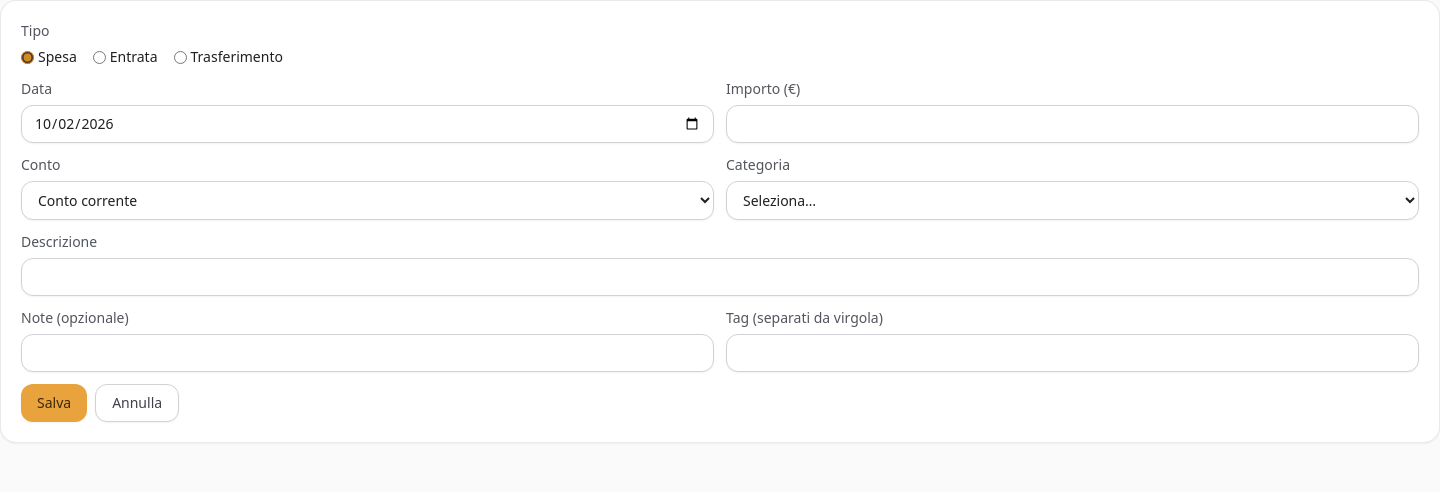
TransactionForm › rejects a transfer to the same account
The image size is (1440, 492).
Click the radio button labelled "Trasferimento" at (180, 57), box [174,50,186,64]
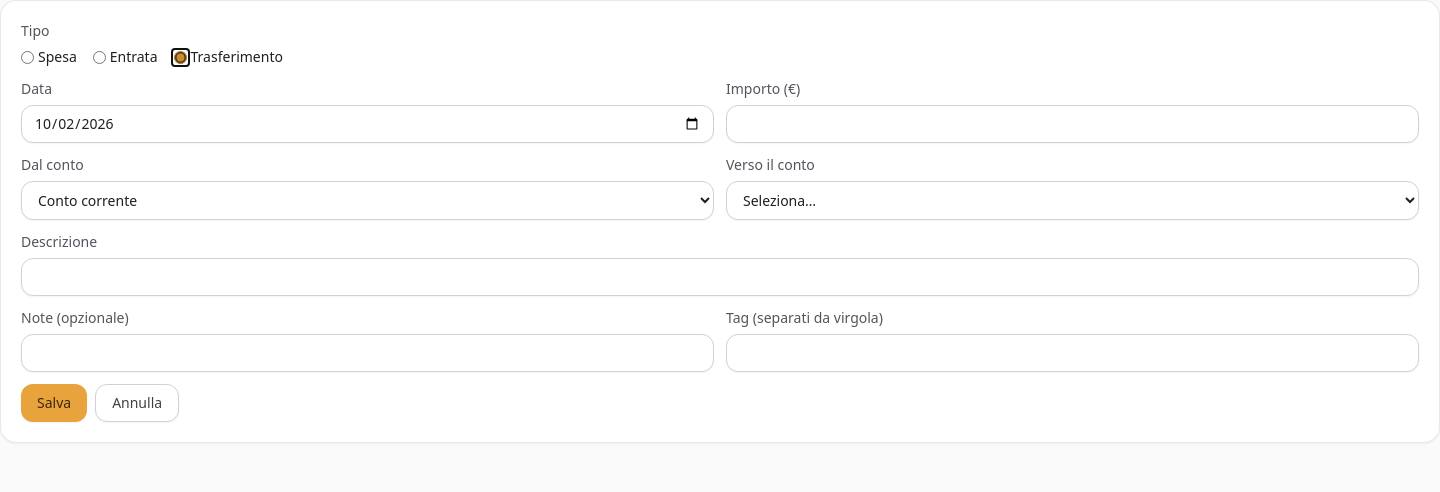
Type "100" into the number field labelled "Importo (€)" at (1072, 124), box [726,105,1419,143]
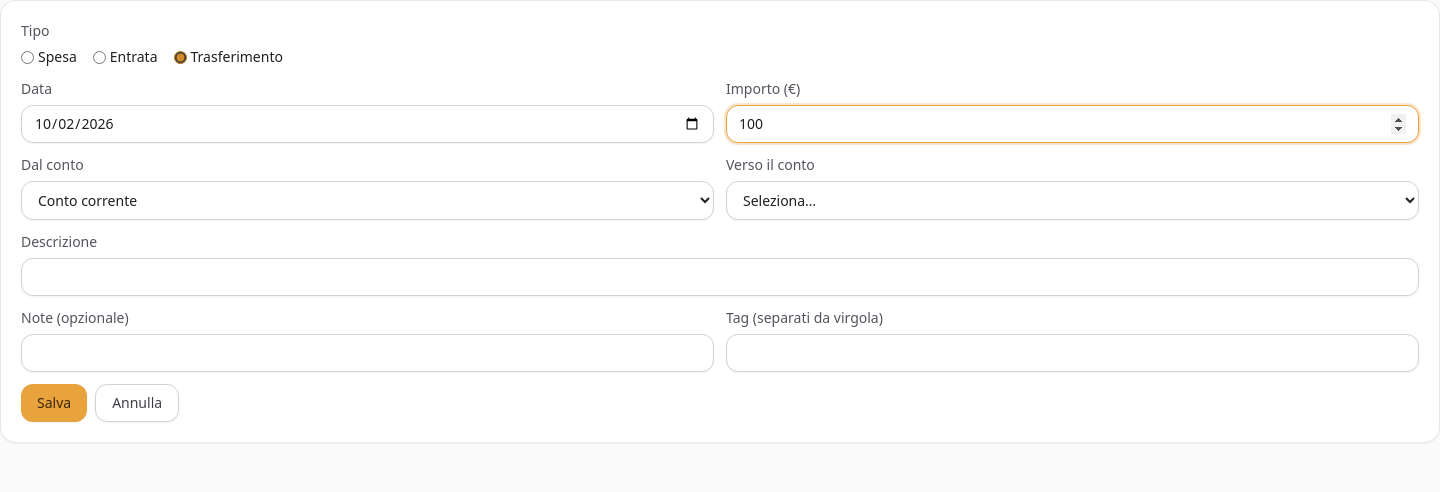
Type "Transfer" into the field labelled "Descrizione" at (720, 277), box [21,258,1419,296]
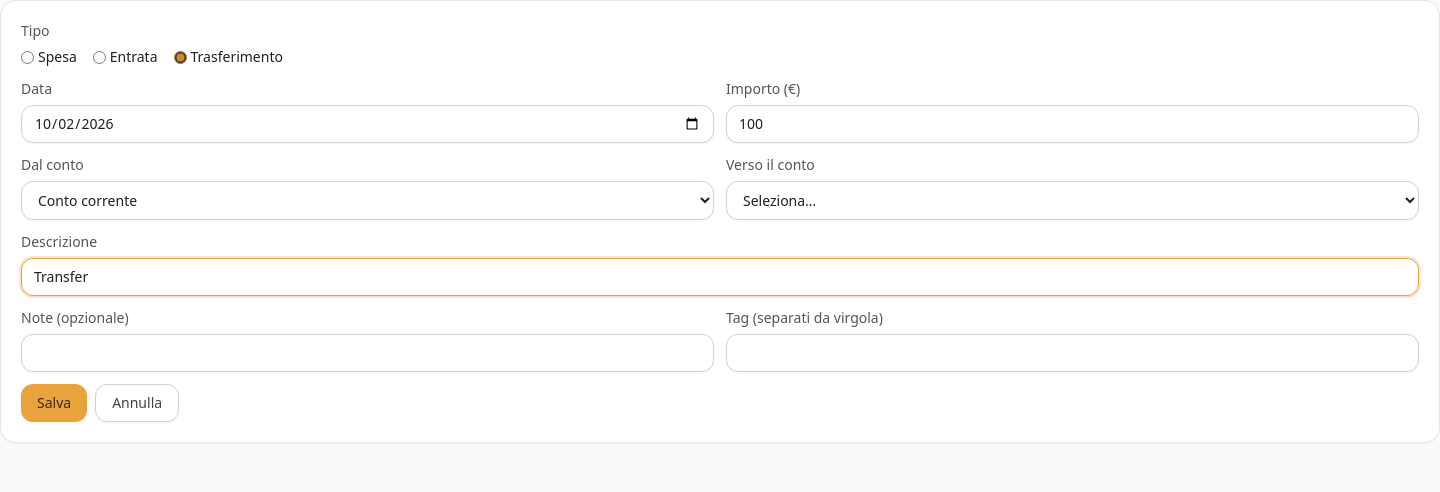
Select "Conto corrente" in the dropdown labelled "Verso il conto" at (1072, 200), box [726,181,1419,220]
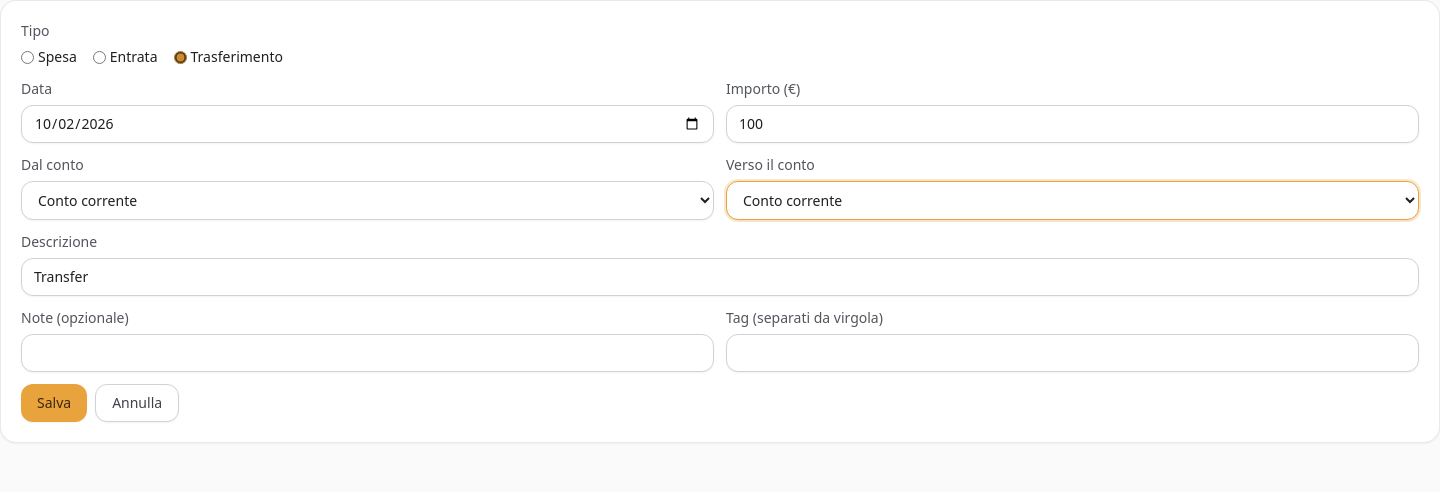
Click the button "Salva" at (54, 403), box [21,384,87,422]
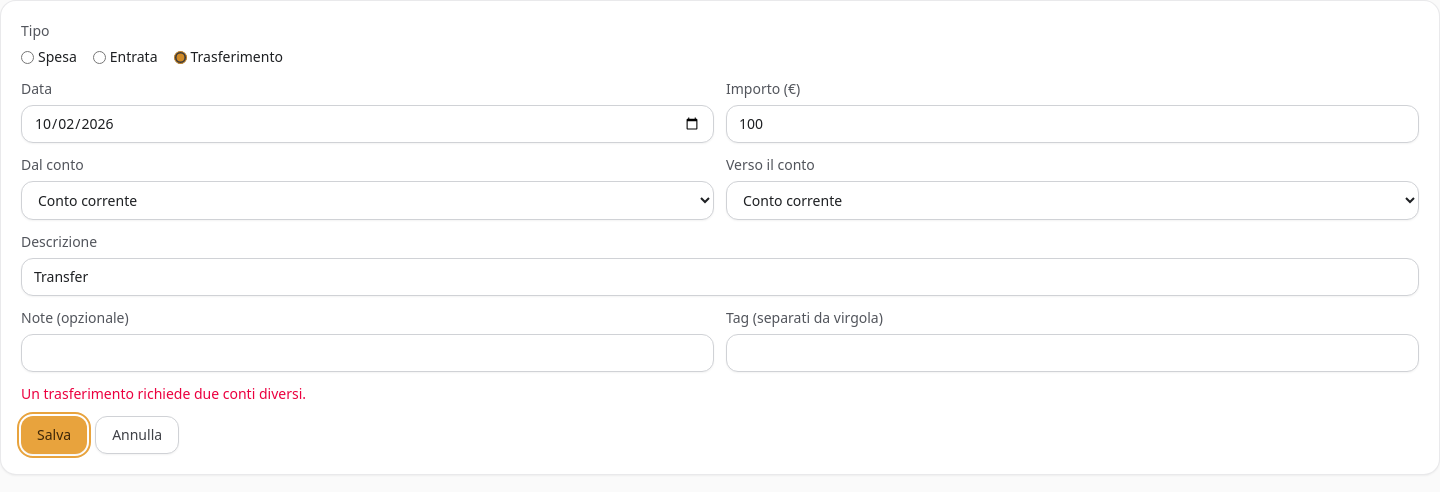
Check: the text "Un trasferimento richiede due conti diversi." is shown, box [21,384,306,403]
